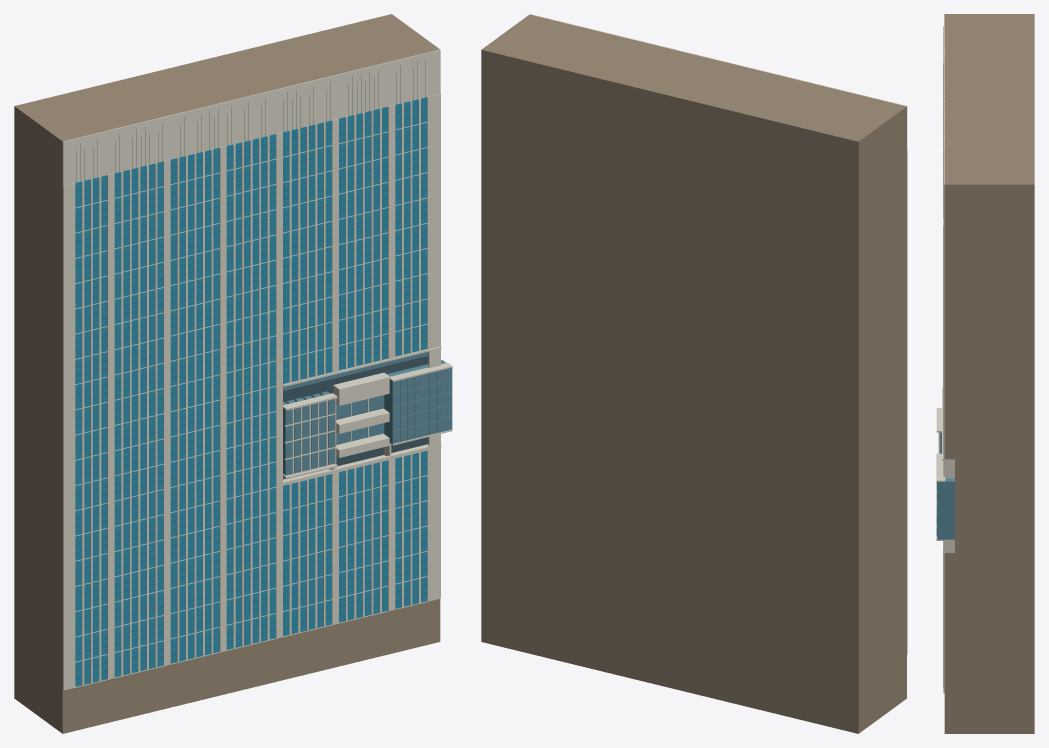
The model's file is light.glb.
3 renders of one model, left to right at view 1: azimuth 30°, elevation 25°; view 2: azimuth 150°, elevation 25°; view 3: azimuth 270°, elevation 25°, orthographic. The views are drawn at different scales.
Parts seen in each view (by area): view 1: F_glass_group_00_col_00_row_00, F_main_crossbar_00_00_00, HOLD_closed_support_mass, F_transition_upper_glazing, F_fine_transom_00_00_00_0, F_transition_dark_backing, F_transition_right_fine_v_1; view 2: HOLD_closed_support_mass, F_main_crossbar_00_00_00; view 3: HOLD_closed_support_mass, F_main_crossbar_00_00_00, F_transition_upper_glazing.
Part boxes in pixels (x1=…): F_glass_group_00_col_00_row_00: x1=75, y1=97, x2=427, y2=686; F_main_crossbar_00_00_00: x1=62, y1=49, x2=452, y2=690; HOLD_closed_support_mass: x1=14, y1=14, x2=440, y2=733; F_transition_upper_glazing: x1=283, y1=352, x2=452, y2=475; F_fine_transom_00_00_00_0: x1=75, y1=105, x2=426, y2=679; F_transition_dark_backing: x1=283, y1=356, x2=428, y2=479; F_transition_right_fine_v_1: x1=392, y1=369, x2=452, y2=442; HOLD_closed_support_mass: x1=481, y1=14, x2=906, y2=733; F_main_crossbar_00_00_00: x1=530, y1=14, x2=907, y2=654; HOLD_closed_support_mass: x1=944, y1=14, x2=1034, y2=733; F_main_crossbar_00_00_00: x1=936, y1=14, x2=954, y2=693; F_transition_upper_glazing: x1=937, y1=432, x2=954, y2=539.
Size of the model in its own units: 73.5 by 108 by 17.5.
